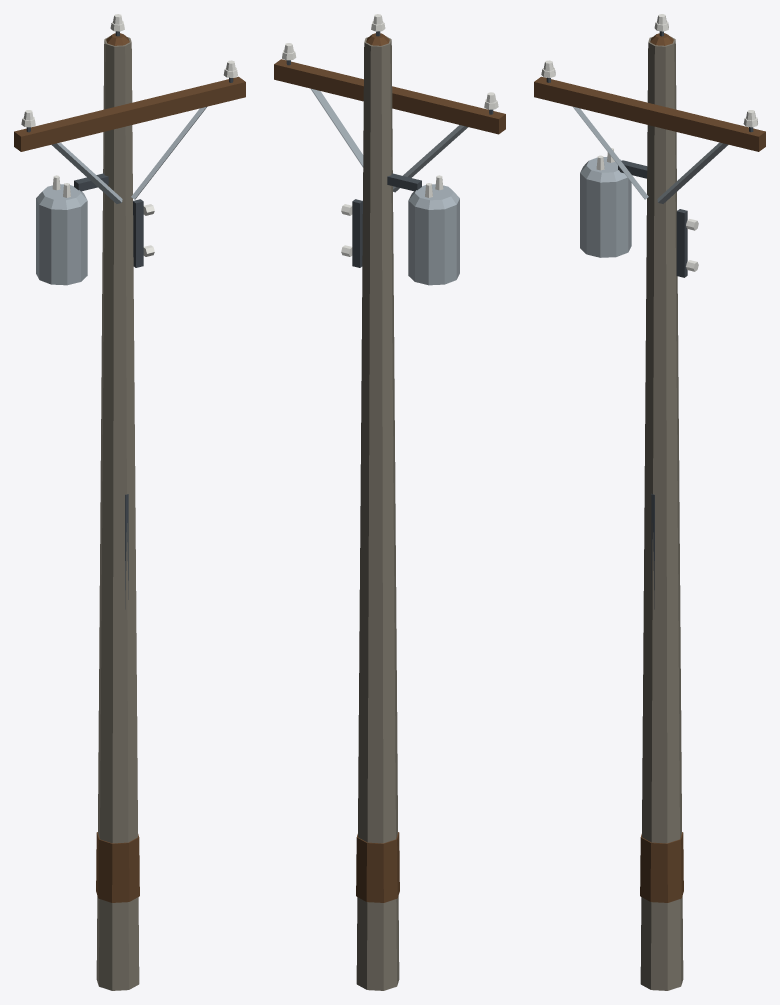
Rendered from GL_UtilityPoleTransformer_01.glb.
3 renders of one model, left to right at view 1: azimuth 30°, elevation 25°; view 2: azimuth 150°, elevation 25°; view 3: azimuth 330°, elevation 25°, orthographic.
Parts seen in each view (by area): view 1: GL_UtilityPoleTransformer_01; view 2: GL_UtilityPoleTransformer_01; view 3: GL_UtilityPoleTransformer_01.
Part boxes in pixels (x1,y1,x2,y2): GL_UtilityPoleTransformer_01: [14, 14, 245, 990]; GL_UtilityPoleTransformer_01: [274, 14, 505, 990]; GL_UtilityPoleTransformer_01: [534, 14, 765, 990].
Bounding box in the file's own units: 2 × 8.22 × 0.4318.
Materials: 1 (1 with a texture image).
